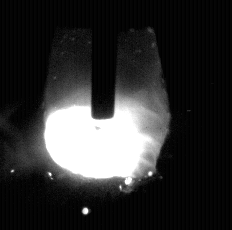arame: (92, 0, 116, 120)
poca: (43, 0, 169, 230)
